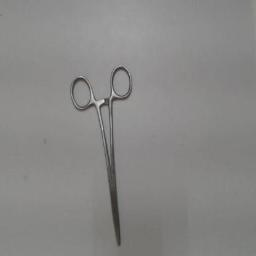Mayo Needle Holder: (67, 62, 137, 252)
